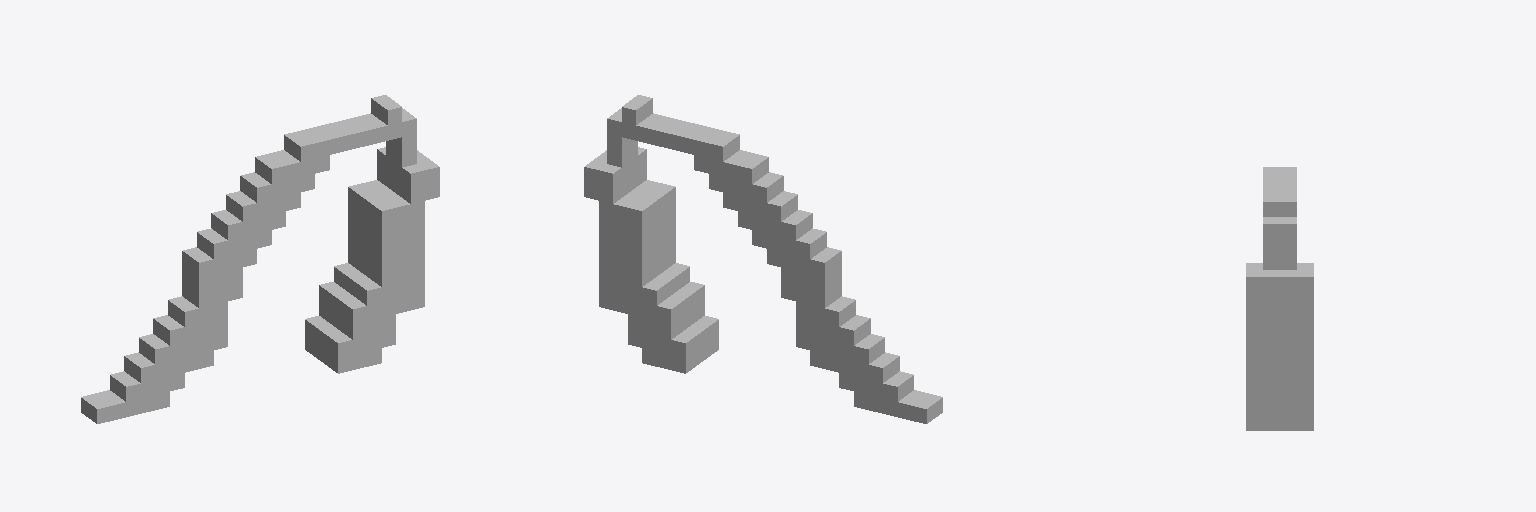
Rendered from monster 1_Weapon.obj.
3 renders of one model, left to right at view 1: azimuth 30°, elevation 25°; view 2: azimuth 150°, elevation 25°; view 3: azimuth 270°, elevation 25°, orthographic.
Parts seen in each view (by area): view 1: object 1; view 2: object 1; view 3: object 1.
Boxes of the visible parts, x1,y1,x2,y2 form: object 1: [81, 95, 439, 423]; object 1: [584, 95, 942, 423]; object 1: [1246, 167, 1313, 430].
Size of the model in its own units: 2.3 by 1.6 by 0.4.